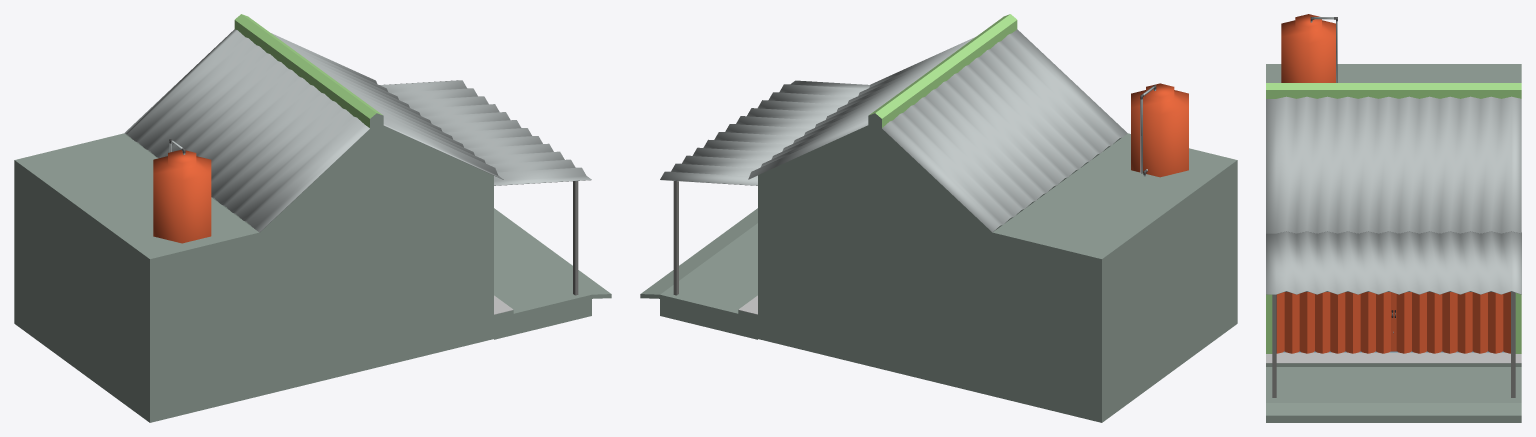
File: Closed_STore_Type_1_3.fbx
The picture shows the model from 3 angles, left to right: view 1: azimuth 30°, elevation 25°; view 2: azimuth 150°, elevation 25°; view 3: azimuth 270°, elevation 25°; orthographic projection. The views are drawn at different scales.
Visible parts, largest first — view 1: Closed_STore_Type_1_3_LOD0; view 2: Closed_STore_Type_1_3_LOD0; view 3: Closed_STore_Type_1_3_LOD0.
Boxes of the visible parts, x1=… form: Closed_STore_Type_1_3_LOD0: x1=14, y1=14, x2=611, y2=422; Closed_STore_Type_1_3_LOD0: x1=640, y1=14, x2=1237, y2=422; Closed_STore_Type_1_3_LOD0: x1=1266, y1=14, x2=1521, y2=422.
Size of what is drawn, in the model's own units: 1180 by 624 by 600.
